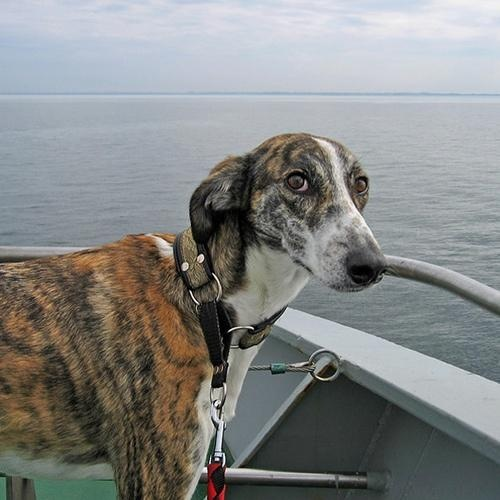dog: (3, 133, 390, 497)
